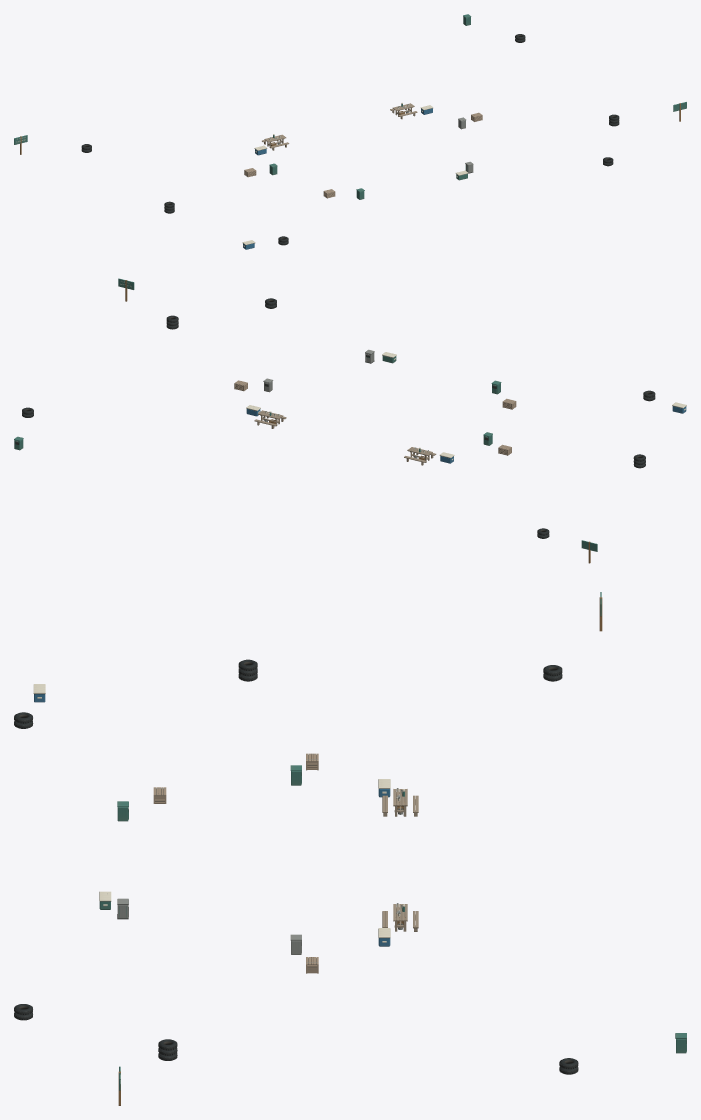
File: before-props.glb
3 views of the same model, one above another, from view 1: azimuth 30°, elevation 25°; view 2: azimuth 150°, elevation 25°; view 3: azimuth 270°, elevation 25° (orthographic). The views are drawn at different scales.
Visible parts, largest first — view 1: Arena entrance props.003; view 2: Arena entrance props.003; view 3: Arena entrance props.003.
Boxes of the visible parts, left/top/right/bottom form: Arena entrance props.003: left=14, top=14, right=686, bottom=249; Arena entrance props.003: left=14, top=278, right=686, bottom=563; Arena entrance props.003: left=14, top=592, right=686, bottom=1105.
Size of the model in its own units: 71.8 by 2.3 by 41.96.
14 materials, 12 textured.
